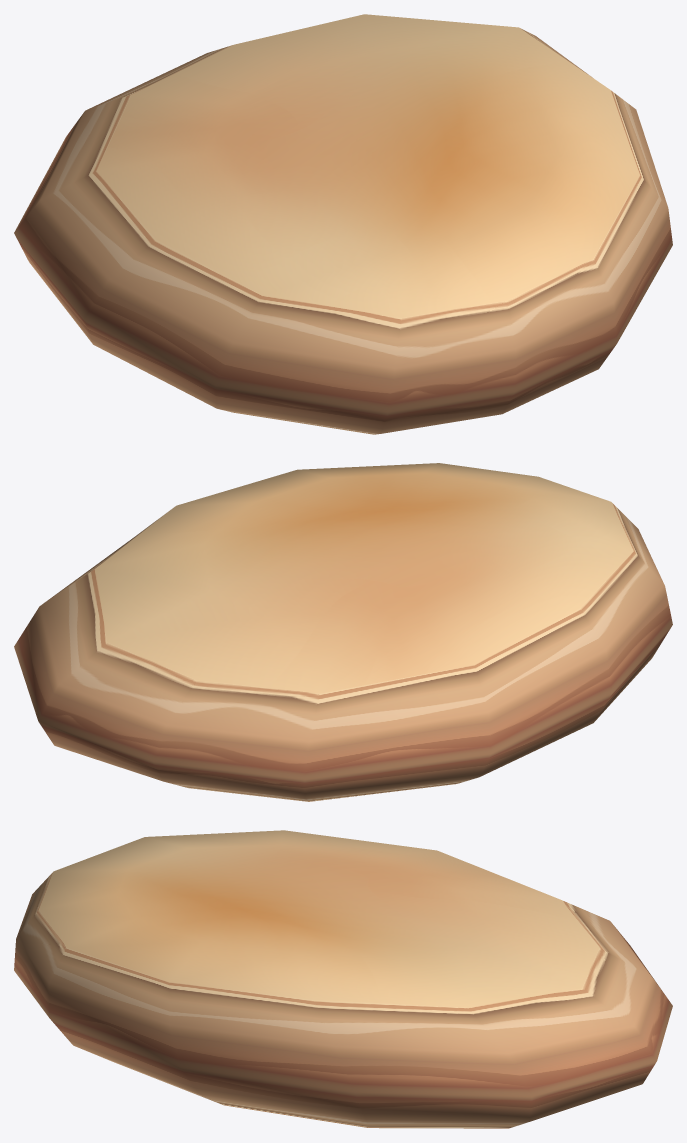
File: Stone_Big_01.FBX
The picture shows the model from 3 angles, top to bottom: view 1: azimuth 30°, elevation 25°; view 2: azimuth 150°, elevation 25°; view 3: azimuth 270°, elevation 25°; orthographic projection. The views are drawn at different scales.
Parts seen in each view (by area): view 1: Stone_Big_01; view 2: Stone_Big_01; view 3: Stone_Big_01.
Part boxes in pixels (<box>): Stone_Big_01: <box>14,14,672,434</box>; Stone_Big_01: <box>14,463,672,801</box>; Stone_Big_01: <box>14,830,672,1128</box>.
Bounding box in the file's own units: 21.34 × 6.56 × 25.32.
